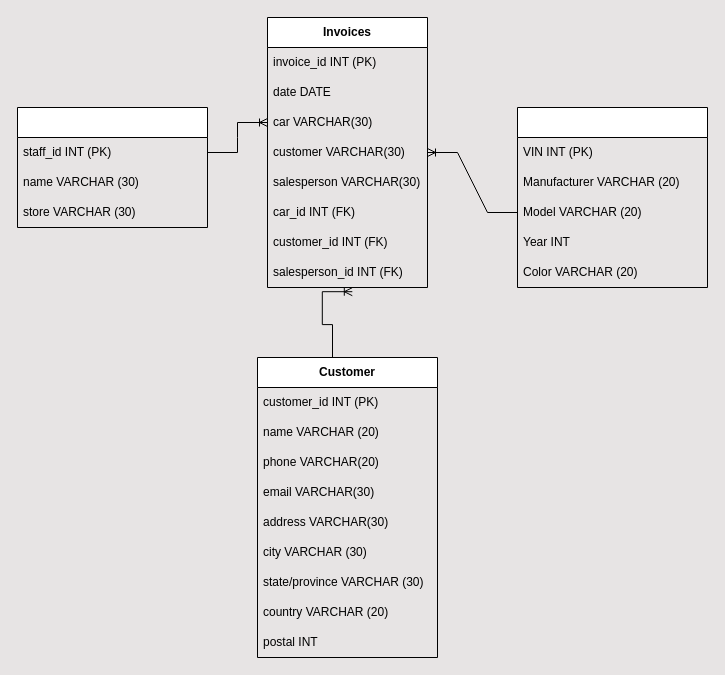
Image size: 725x675. Some labels were removed from this diagram. Here are the shapes that lost their labels. From the top down, the box of each, then its label:
(16, 106, 208, 228): Salesperson
(516, 106, 708, 288): Cars
